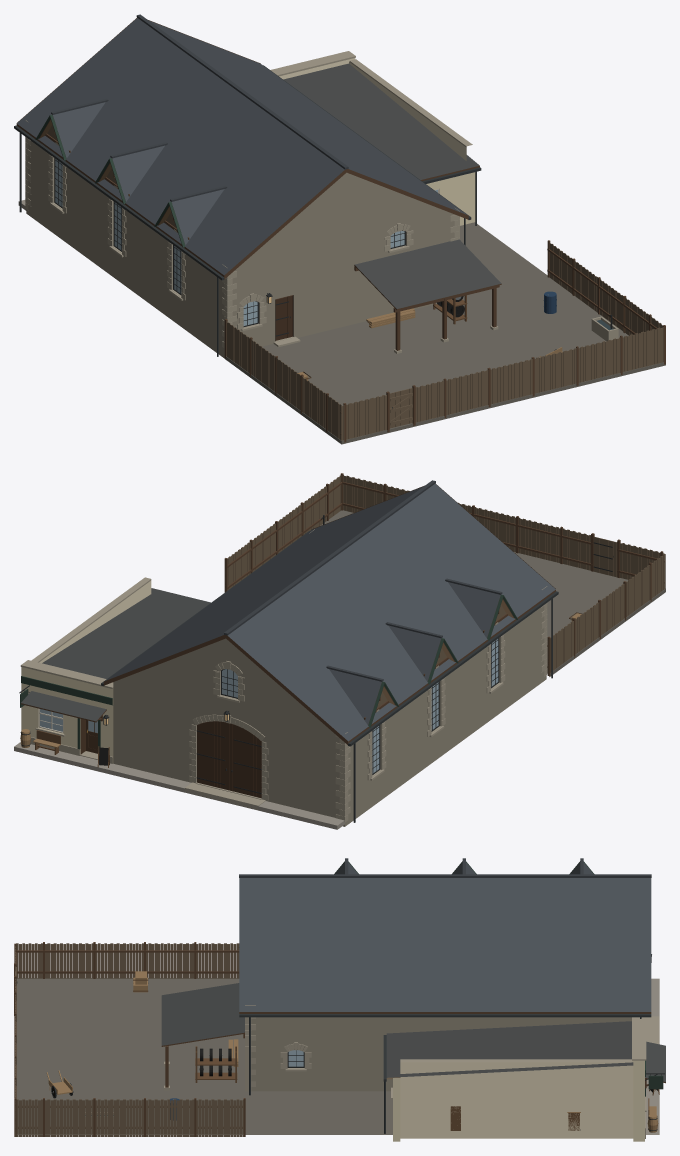
File: RepairGarage.fbx
3 views of the same model, one above another, from view 1: azimuth 30°, elevation 25°; view 2: azimuth 150°, elevation 25°; view 3: azimuth 270°, elevation 25° (orthographic).
Parts seen in each view (by area): view 1: Ext_Roof, Ext_Facade, Ext_Yard, Ext_Ground, Glass, Int_Walls, Ext_Windows, Leaf_yard-gate_0, Leaf_rear-door_0; view 2: Ext_Roof, Ext_Facade, Ext_Yard, Ext_Ground, Leaf_carriage_0, Leaf_carriage_1, Glass, Ext_Windows, Int_Walls, Leaf_yard-gate_0; view 3: Ext_Roof, Ext_Ground, Ext_Yard, Int_Walls, Ext_Facade, ExtFurn_shed-rack.
Boxes of the visible parts, <box> form: Ext_Roof: <box>14,14,481,356</box>; Ext_Facade: <box>25,51,475,358</box>; Ext_Yard: <box>224,239,665,442</box>; Ext_Ground: <box>18,200,665,444</box>; Glass: <box>55,159,437,325</box>; Int_Walls: <box>279,58,466,160</box>; Ext_Windows: <box>54,158,439,340</box>; Leaf_yard-gate_0: <box>390,388,412,428</box>; Leaf_rear-door_0: <box>275,296,292,340</box>; Ext_Roof: <box>42,480,558,822</box>; Ext_Facade: <box>20,529,547,826</box>; Ext_Yard: <box>224,473,665,676</box>; Ext_Ground: <box>14,510,665,829</box>; Leaf_carriage_0: <box>196,721,229,790</box>; Leaf_carriage_1: <box>229,723,261,798</box>; Glass: <box>40,639,498,773</box>; Ext_Windows: <box>38,638,499,774</box>; Int_Walls: <box>39,580,151,688</box>; Leaf_yard-gate_0: <box>593,536,616,577</box>; Ext_Roof: <box>239,858,651,1133</box>; Ext_Ground: <box>16,978,659,1134</box>; Ext_Yard: <box>14,942,245,1136</box>; Int_Walls: <box>400,1060,633,1138</box>; Ext_Facade: <box>245,1005,665,1141</box>; ExtFurn_shed-rack: <box>195,1046,237,1082</box>.
Size of the model in its own units: 1809 by 873 by 3103.
